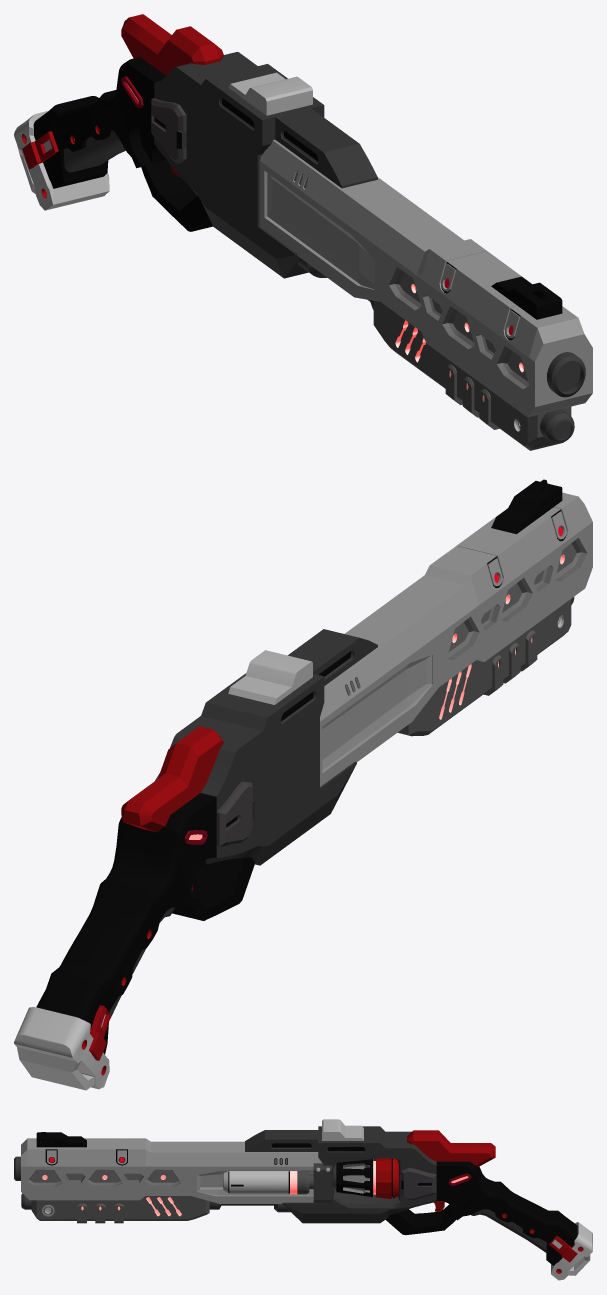
File: scifi_gun.glb
3 views of the same model, one above another, from view 1: azimuth 30°, elevation 25°; view 2: azimuth 150°, elevation 25°; view 3: azimuth 270°, elevation 25° (orthographic). The views are drawn at different scales.
Parts seen in each view (by area): view 1: scifi gun; view 2: scifi gun; view 3: scifi gun.
Part boxes in pixels (bbox=[...]): scifi gun: bbox=[14, 14, 592, 450]; scifi gun: bbox=[14, 479, 592, 1090]; scifi gun: bbox=[14, 1119, 592, 1280].
Size of the model in its own units: 0.4073 by 1.26 by 4.51.
